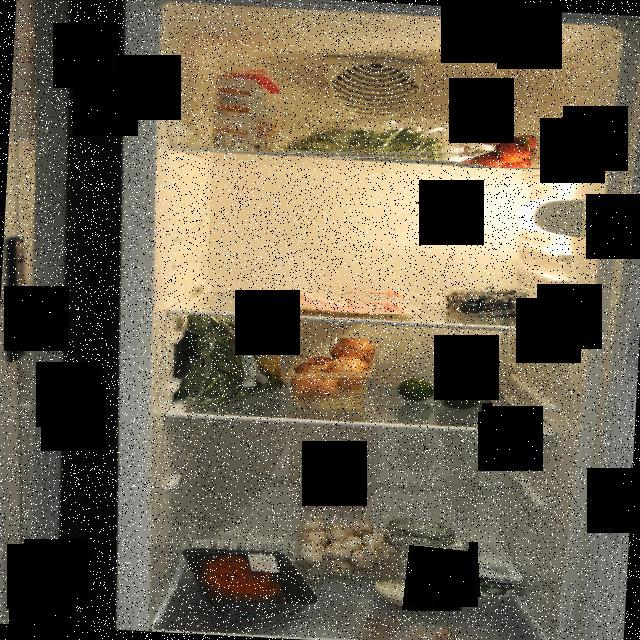beef: (178, 541, 322, 618)
blueberries: (439, 286, 537, 322)
flour: (374, 508, 472, 612)
goat_cheese: (455, 553, 526, 597)
green_beans: (275, 117, 465, 162)
ham: (278, 284, 422, 314)
lime: (392, 368, 492, 414)
mushrooms: (284, 514, 396, 574)
onion: (284, 338, 379, 410)
spinach: (174, 312, 295, 415)
strawberries: (452, 117, 544, 168)
sugar: (210, 67, 284, 152)
